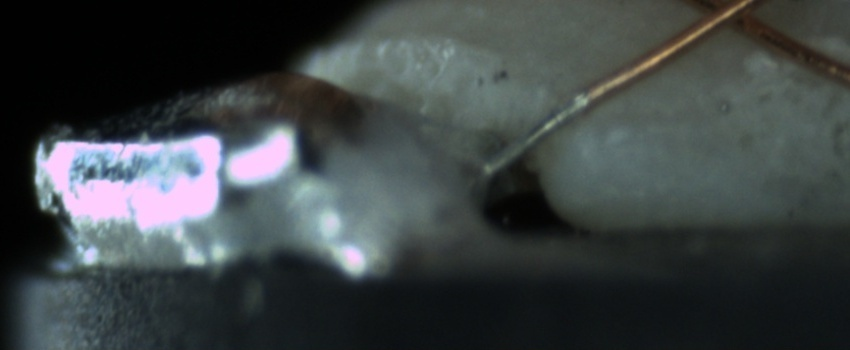CL: (674, 1, 782, 42)
DL: (577, 90, 706, 147)
TS: (491, 90, 592, 173)
